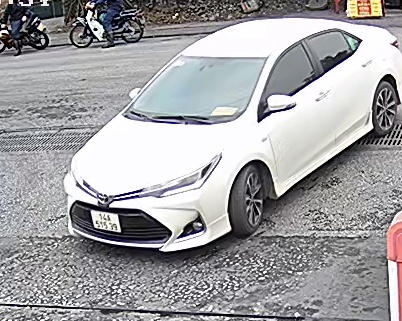vehicle plate: (88, 207, 122, 235)
